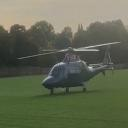helicopter: (18, 40, 124, 97)
